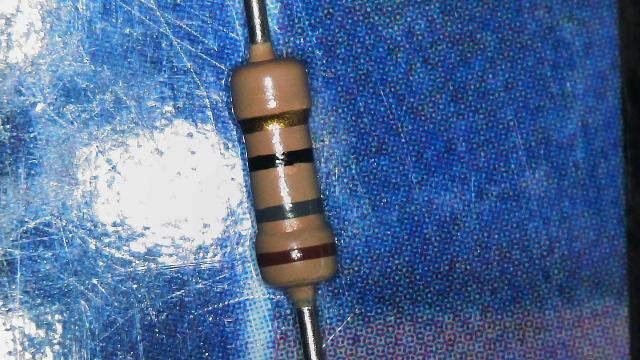black: (249, 154, 316, 166)
brown: (258, 249, 342, 260)
gold: (237, 113, 312, 128)
grey: (255, 204, 328, 217)
resistor: (204, 46, 358, 310)
